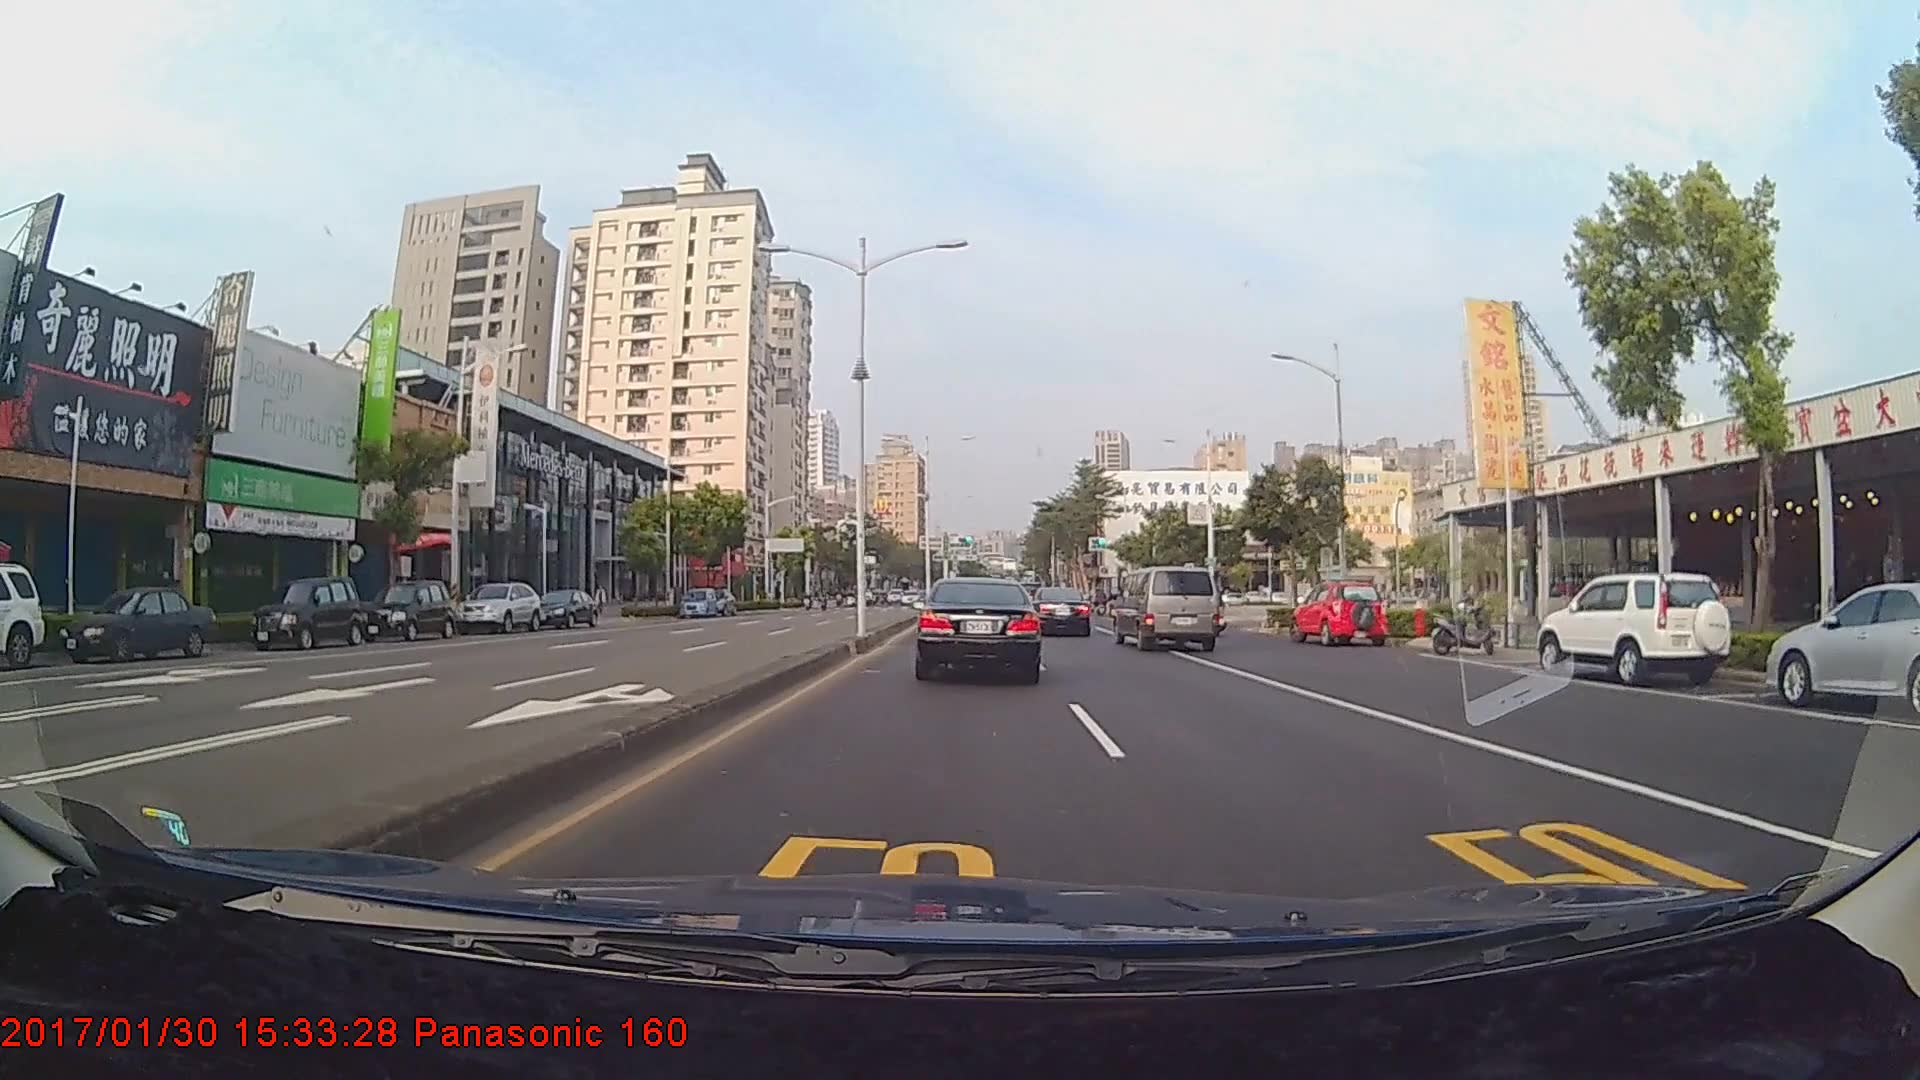vehicle: (1542, 567, 1726, 684), (1764, 580, 1920, 717), (915, 574, 1040, 680), (51, 585, 219, 665), (1112, 564, 1221, 651), (247, 576, 364, 650), (357, 580, 455, 644), (1294, 580, 1385, 647), (0, 560, 46, 671), (451, 580, 543, 634), (1030, 585, 1093, 637), (533, 589, 600, 630), (676, 585, 717, 616)
